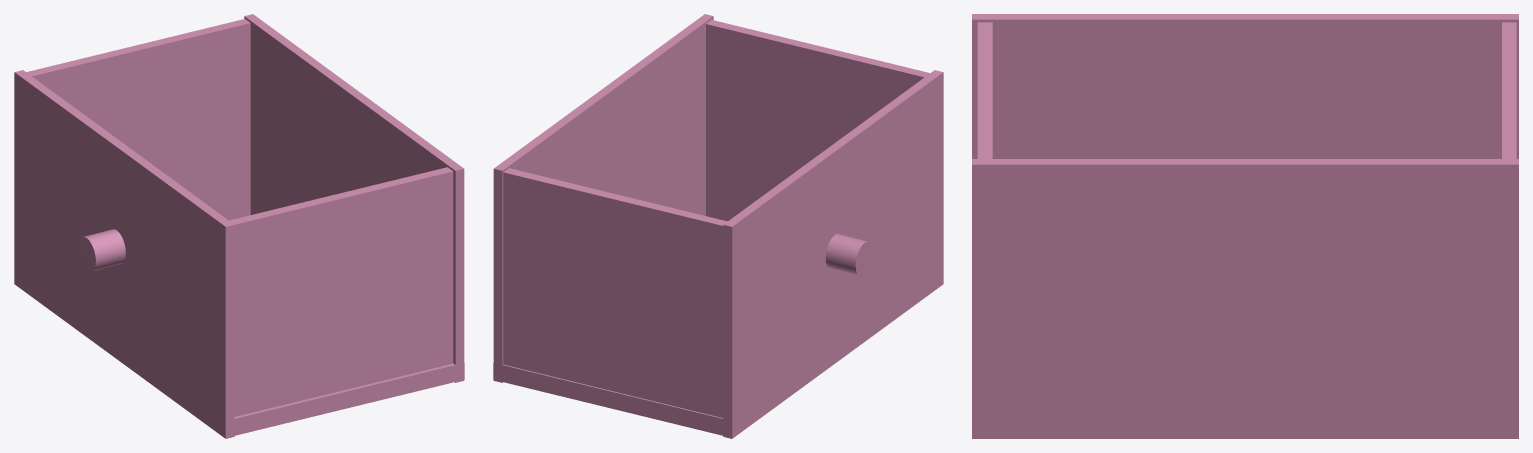
File: Cajon_Abajo.obj
The picture shows the model from 3 angles, left to right: view 1: azimuth 30°, elevation 25°; view 2: azimuth 150°, elevation 25°; view 3: azimuth 270°, elevation 25°; orthographic projection. The views are drawn at different scales.
Parts seen in each view (by area): view 1: group2_pasted__group_pasted__pasted__pCube1; view 2: group2_pasted__group_pasted__pasted__pCube1; view 3: group2_pasted__group_pasted__pasted__pCube1.
Boxes of the visible parts, x1,y1,x2,y2 form: group2_pasted__group_pasted__pasted__pCube1: (14, 14, 464, 438); group2_pasted__group_pasted__pasted__pCube1: (493, 14, 943, 438); group2_pasted__group_pasted__pasted__pCube1: (972, 14, 1518, 438).
Size of the model in its own units: 1.92 by 1.45 by 2.62.
Materials: 1 (1 with a texture image).
